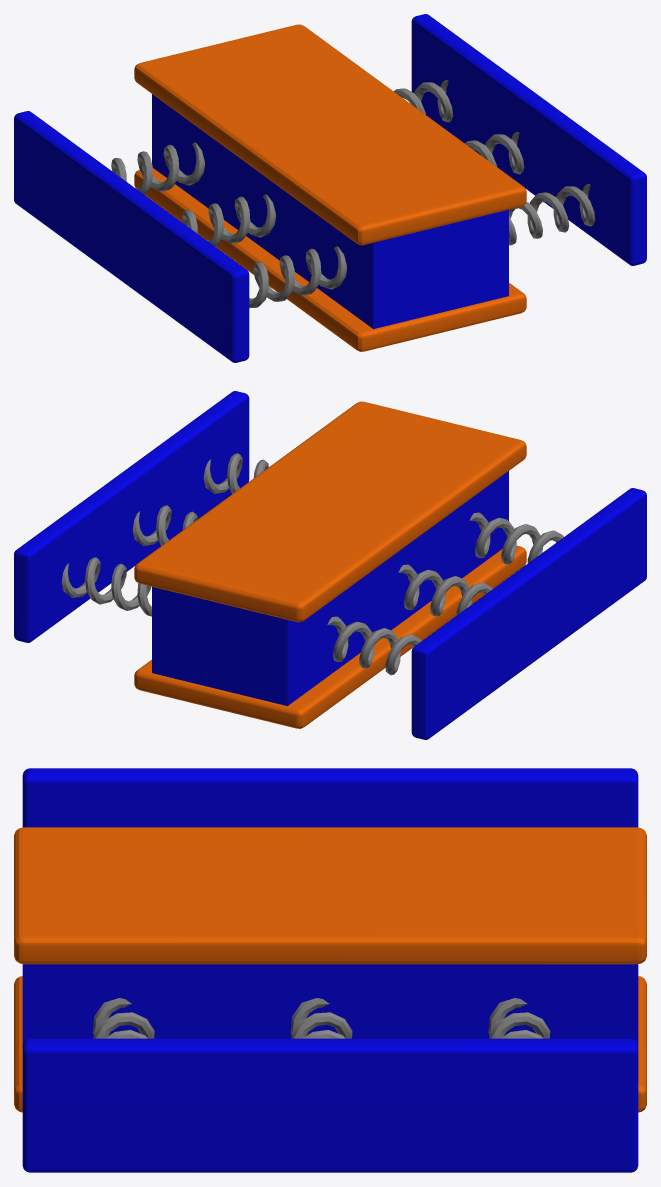
The model's file is obstacle5(spring).fbx.
3 views of the same model, one above another, from view 1: azimuth 30°, elevation 25°; view 2: azimuth 150°, elevation 25°; view 3: azimuth 270°, elevation 25° (orthographic). The views are drawn at different scales.
Parts seen in each view (by area): view 1: pCube31, pCube30, pCube28; view 2: pCube31, pCube30, pCube28; view 3: pCube31, pCube28, pCube30.
Part boxes in pixels (x1,y1,x2,y2): pCube31: (134, 24, 526, 351); pCube30: (14, 111, 346, 362); pCube28: (394, 14, 646, 265); pCube31: (134, 401, 526, 728); pCube30: (327, 488, 646, 739); pCube28: (14, 391, 268, 642); pCube31: (14, 827, 646, 1112); pCube28: (22, 998, 638, 1172); pCube30: (22, 768, 638, 827).
Bounding box in the file's own units: 4.83 × 1.4 × 4.58.
